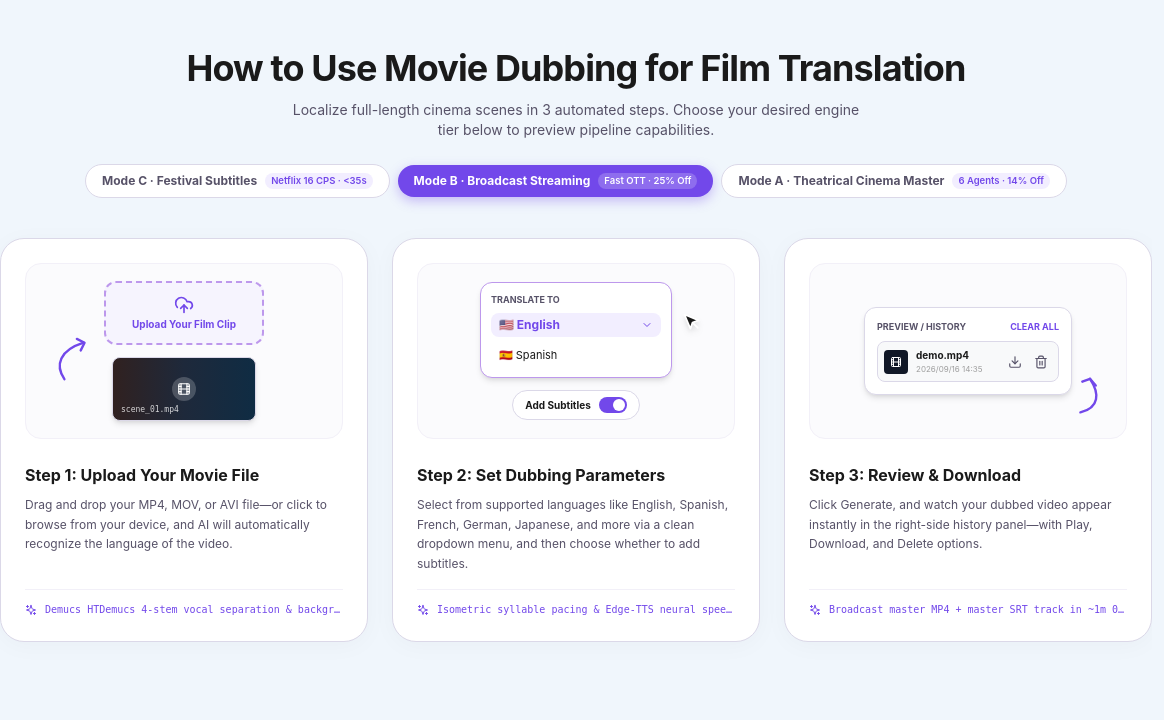
it: aidubbing.io Studio & Landing Experience Specification › HowItWorksSteps (Section 3) › renders 3 step cards and model variation switcher pills
expect the heading "How to Use Movie Dubbing for Film Translation" is shown: met, box [186,46,966,90]
expect the heading "Step 1: Upload Your Movie File" is shown: met, box [25,465,259,485]
Click the button "Mode A · Theatrical Cinema Master 6 Agents · 14% Off".
click(894, 181)  # box [722,164,1067,198]
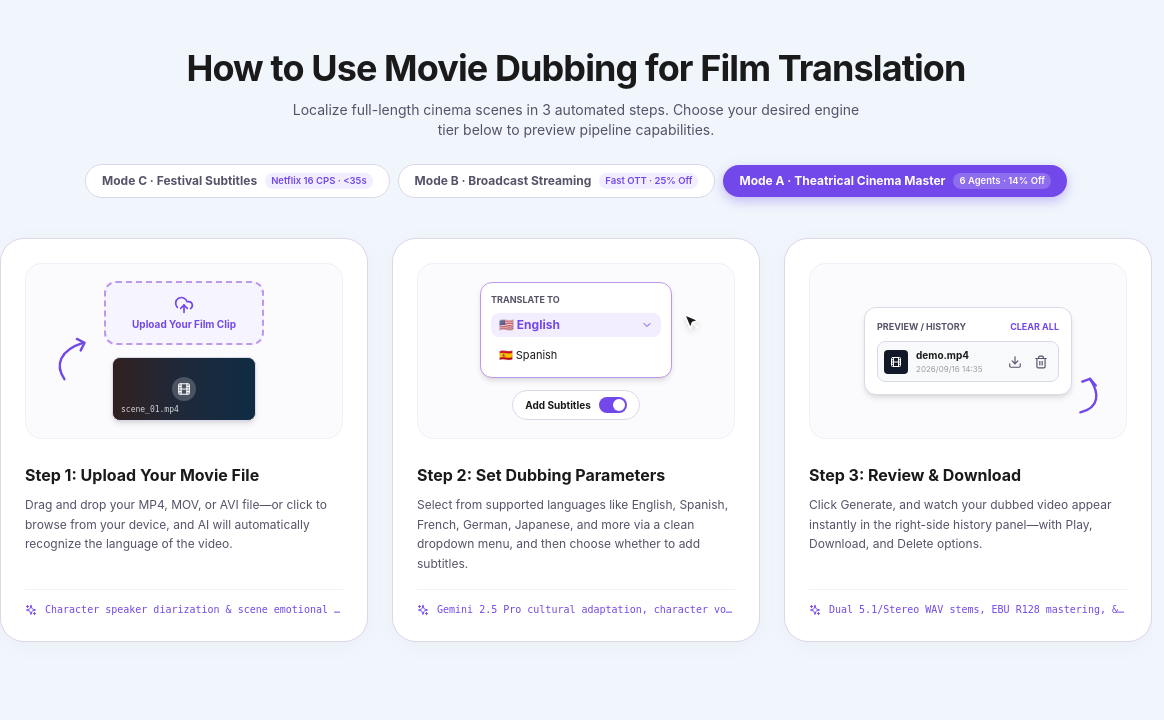
expect the text "Character speaker diarization & scene emotional tone tagging" is shown: met, box [45,602,343,617]
